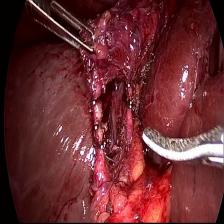Grasper: (26, 0, 99, 61)
Scissors: (134, 113, 224, 175)
